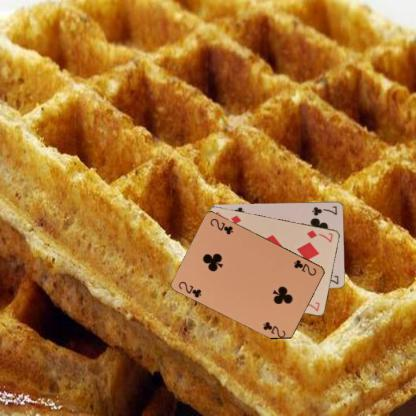2c: (176, 278, 204, 298), (291, 257, 318, 277)
7c: (310, 203, 338, 217)
7d: (304, 227, 334, 244)
